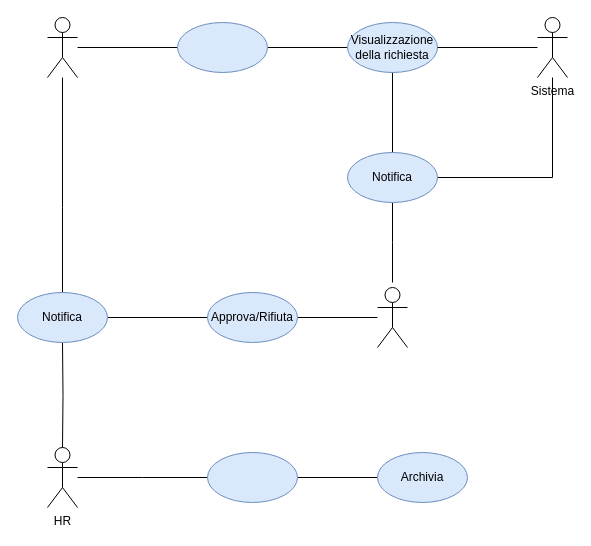
This 591x546 diagram has some shape labels left out. Here are the shapes that lost their labels. From the top down, the centre of each, then its label:
(x=62, y=47): Dipendente
(x=222, y=47): Effettua richiesta ferie
(x=392, y=317): Responsabile
(x=252, y=477): Visualizza
